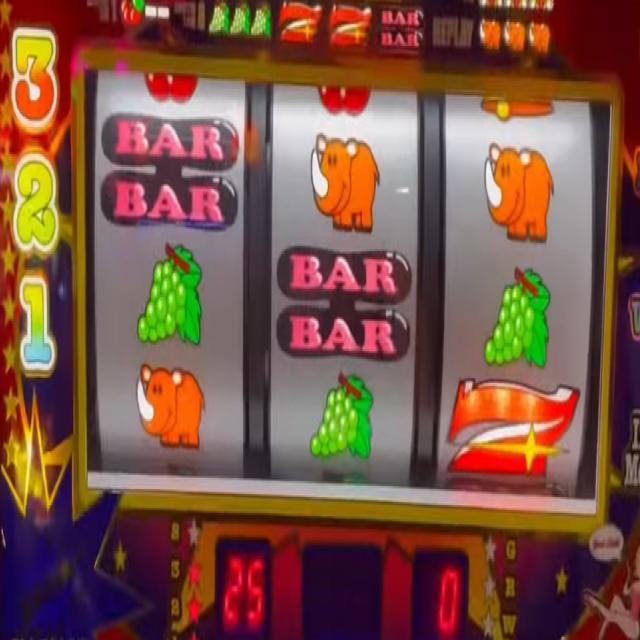bar: (275, 244, 410, 361), (100, 111, 237, 226), (379, 7, 422, 50)
cherry: (316, 83, 372, 116), (143, 73, 198, 101), (116, 0, 142, 22)
display: (83, 66, 596, 516)
elephant: (484, 140, 554, 246), (312, 131, 378, 229), (137, 364, 205, 454), (504, 22, 529, 56), (528, 20, 549, 57), (478, 15, 500, 50)
grape: (482, 262, 552, 371), (136, 243, 201, 348), (311, 373, 374, 461), (252, 4, 271, 41), (229, 5, 250, 38), (208, 4, 228, 36)
z: (448, 379, 580, 487), (279, 0, 322, 44), (327, 4, 371, 46)
